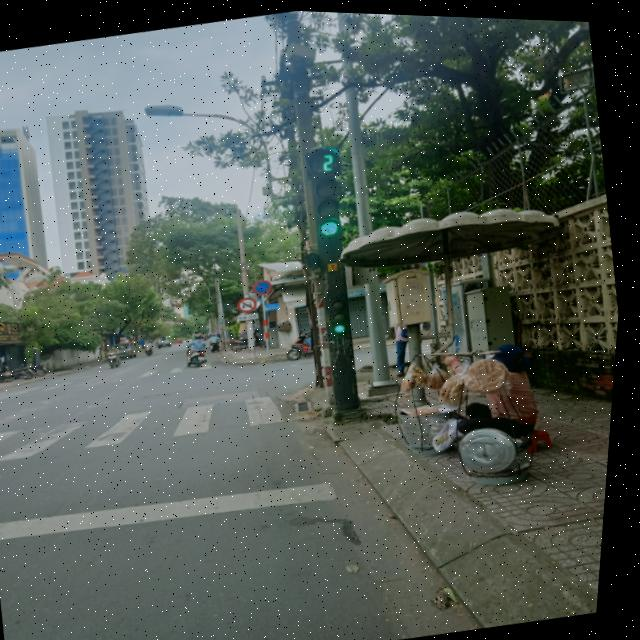Green: (308, 165, 357, 241), (321, 286, 360, 339)
